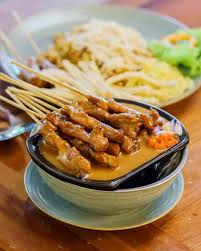sate: (35, 83, 184, 203)
